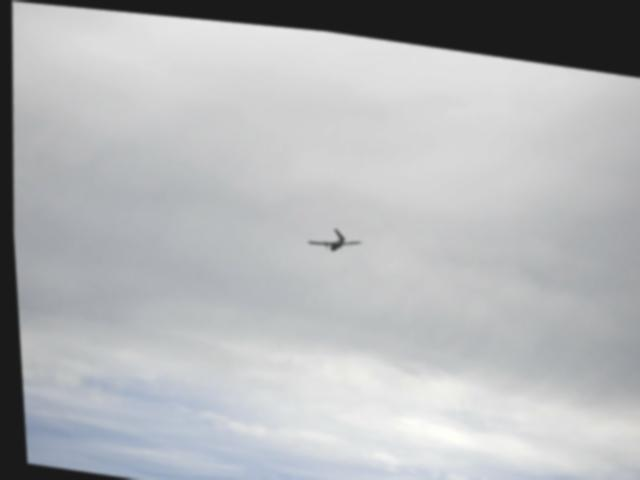plane: (304, 220, 359, 251)
